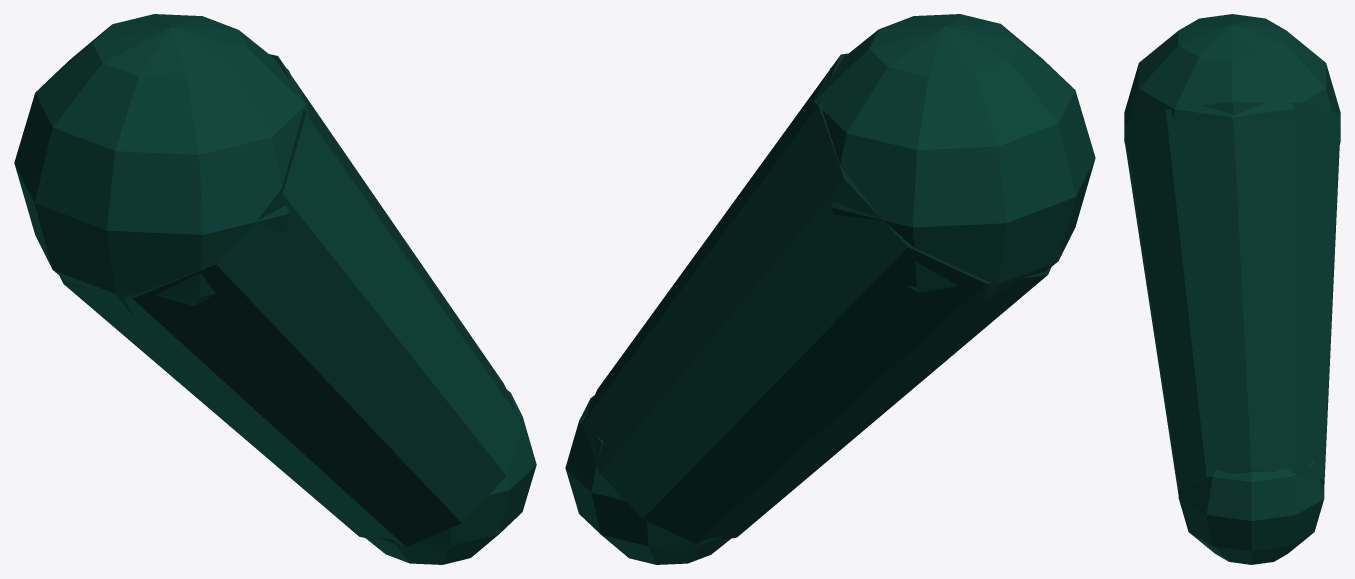
The model's file is SM_brachiosaurus_hind_l_Upper.fbx.
The picture shows the model from 3 angles, left to right: view 1: azimuth 30°, elevation 25°; view 2: azimuth 150°, elevation 25°; view 3: azimuth 270°, elevation 25°; orthographic projection. The views are drawn at different scales.
Parts seen in each view (by area): view 1: SM_brachiosaurus_hind_l_Upper export; view 2: SM_brachiosaurus_hind_l_Upper export; view 3: SM_brachiosaurus_hind_l_Upper export.
Part boxes in pixels (box(x1,y1,x2,y2)): SM_brachiosaurus_hind_l_Upper export: box(14, 14, 536, 564); SM_brachiosaurus_hind_l_Upper export: box(565, 14, 1095, 564); SM_brachiosaurus_hind_l_Upper export: box(1124, 14, 1340, 564).
Bounding box in the file's own units: 192 × 98.91 × 221.
